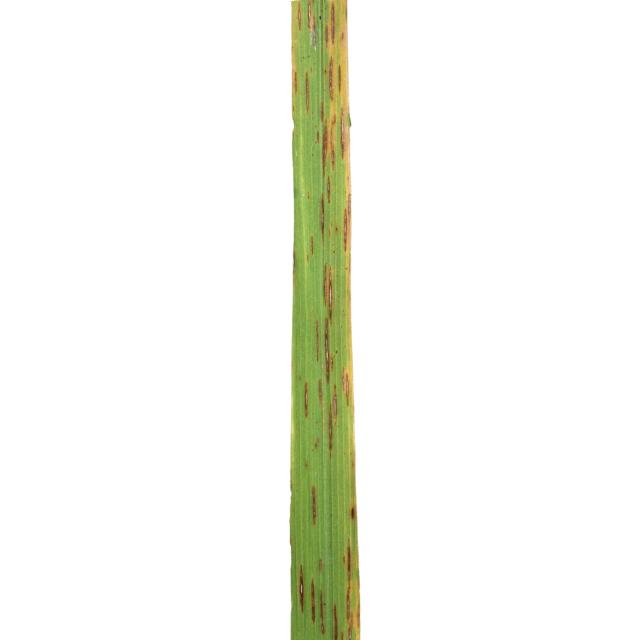Narrow brown: (242, 3, 444, 640)
